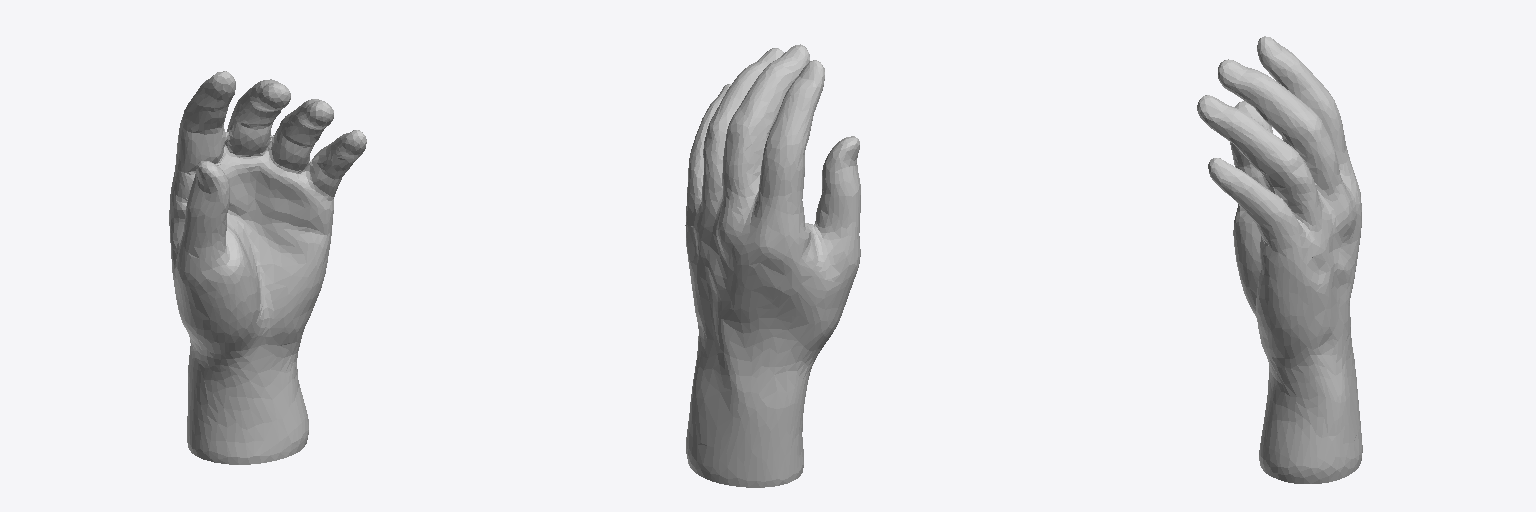
The model's file is hand.obj.
The picture shows the model from 3 angles: view 1: azimuth 30°, elevation 25°; view 2: azimuth 150°, elevation 25°; view 3: azimuth 270°, elevation 25°; orthographic projection.
Visible parts, largest first — view 1: hand; view 2: hand; view 3: hand.
Boxes of the visible parts, box(x1,y1,x2,y2) form: hand: box(169, 71, 366, 464); hand: box(685, 44, 860, 487); hand: box(1197, 36, 1362, 483).
Size of the model in its own units: 87.47 by 202 by 75.89.